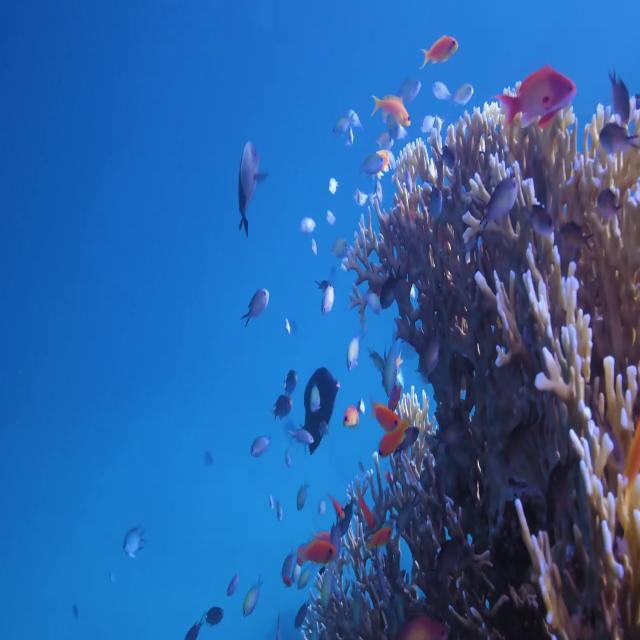fish: (493, 62, 574, 146), (305, 361, 338, 456), (474, 170, 524, 232), (237, 130, 265, 237), (367, 90, 409, 140), (416, 37, 454, 77), (290, 532, 336, 562), (245, 284, 273, 328), (372, 397, 396, 432)
